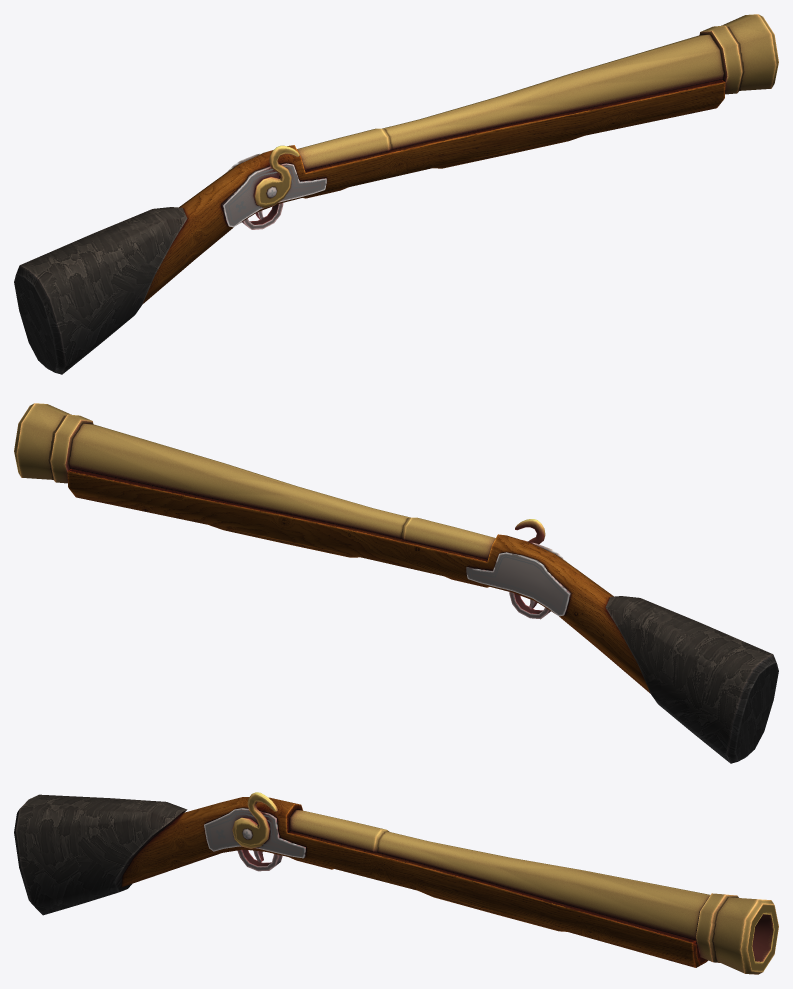
File: bacamarte.fbx
3 views of the same model, one above another, from view 1: azimuth 30°, elevation 25°; view 2: azimuth 150°, elevation 25°; view 3: azimuth 330°, elevation 25° (orthographic).
Parts seen in each view (by area): view 1: Cube.001; view 2: Cube.001; view 3: Cube.001.
Boxes of the visible parts, box(x1,y1,x2,y2) form: Cube.001: box(14, 14, 778, 374); Cube.001: box(14, 403, 778, 763); Cube.001: box(14, 792, 778, 974).
Bounding box in the file's own units: 131 × 31.03 × 11.89.
Materials: 1 (1 with a texture image).
